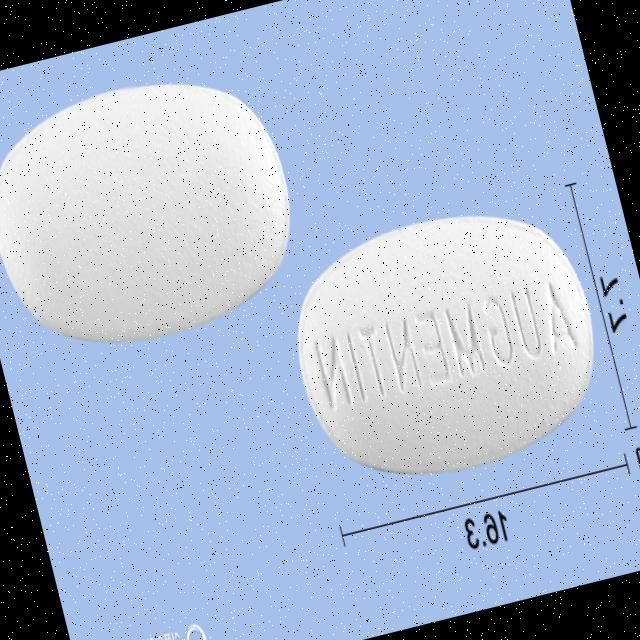Augmentin: (270, 186, 620, 506), (0, 50, 319, 377)
